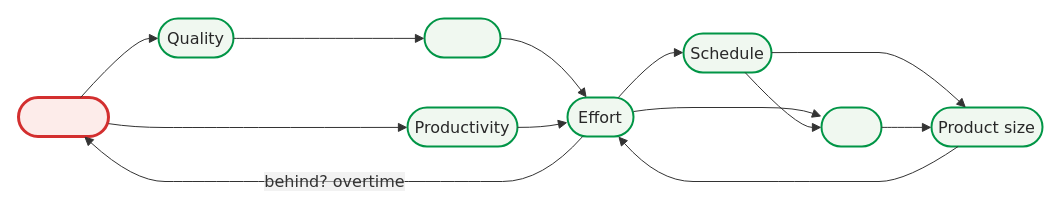
Image size: 1061x208. Some labels were removed from this diagram. The shapes that lost their labels are listed below. From the top down, each one's centre as x and y in pixels, then its label:
At point 462,37: "Rework".
At point 63,117: "Overtime".
At point 851,126: "Cost".
